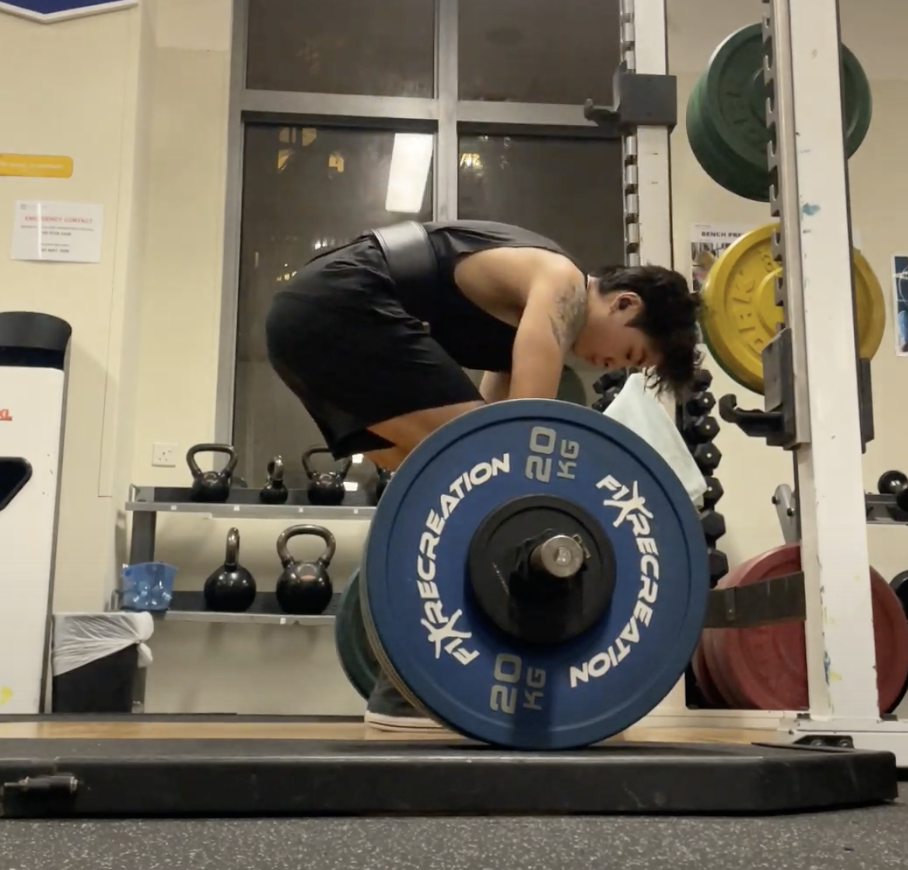barbell: (550, 533, 586, 573)
